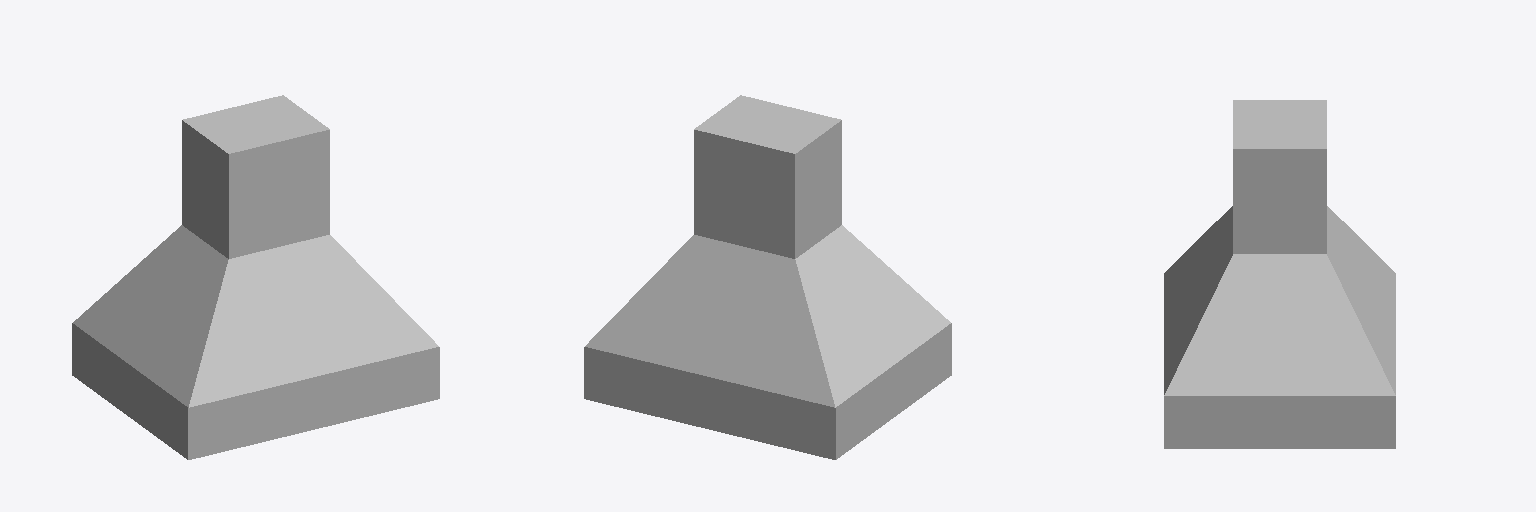
Rendered from engraver.obj.
3 renders of one model, left to right at view 1: azimuth 30°, elevation 25°; view 2: azimuth 150°, elevation 25°; view 3: azimuth 270°, elevation 25°, orthographic.
Visible parts, largest first — view 1: pCube2; view 2: pCube2; view 3: pCube2.
Boxes of the visible parts, x1,y1,x2,y2 form: pCube2: [72, 95, 439, 459]; pCube2: [584, 95, 951, 459]; pCube2: [1164, 100, 1395, 448].
Bounding box in the file's own units: 4.04 × 4.04 × 3.23.